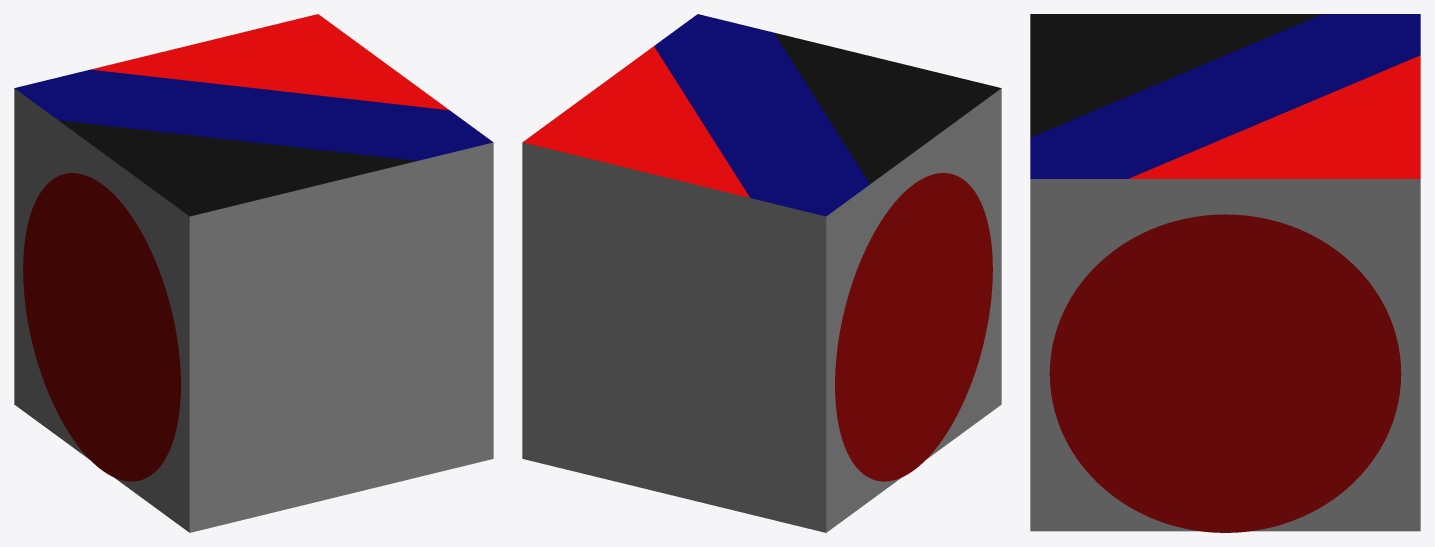
Rendered from Blue0.FBX.
3 views of the same model, side by side, from view 1: azimuth 30°, elevation 25°; view 2: azimuth 150°, elevation 25°; view 3: azimuth 270°, elevation 25° (orthographic). The views are drawn at different scales.
Parts seen in each view (by area): view 1: Body, WheelR; view 2: Body, WheelR; view 3: Body, WheelL.
Boxes of the visible parts, bbox=[...] form: Body: bbox=[14, 14, 493, 532]; WheelR: bbox=[23, 173, 180, 481]; Body: bbox=[522, 14, 1001, 532]; WheelR: bbox=[835, 173, 992, 481]; Body: bbox=[1030, 14, 1420, 531]; WheelL: bbox=[1049, 214, 1401, 532].
Size of the model in its own units: 7.87 by 7.87 by 7.87.
